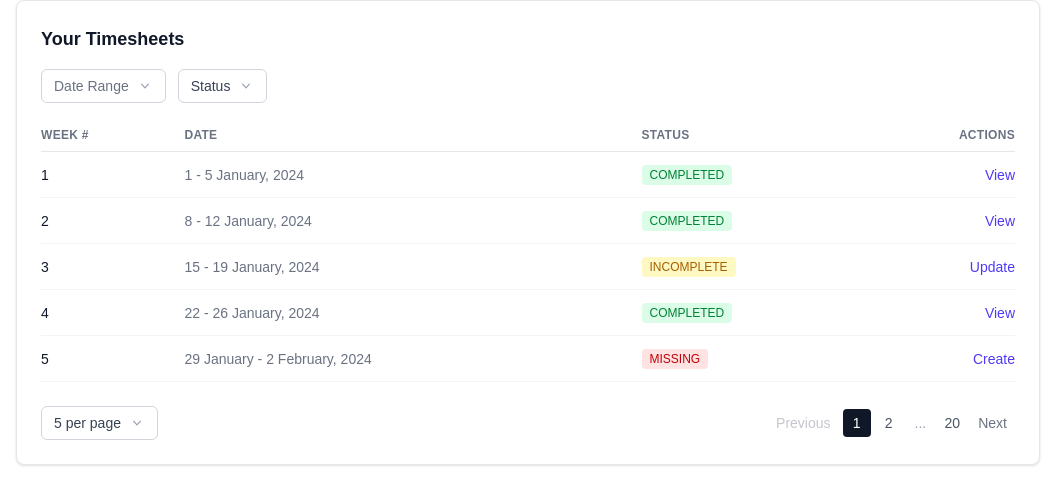
TimesheetTable › filters rows by status
Click the button "Status" at (223, 86), box [178,69,267,103]
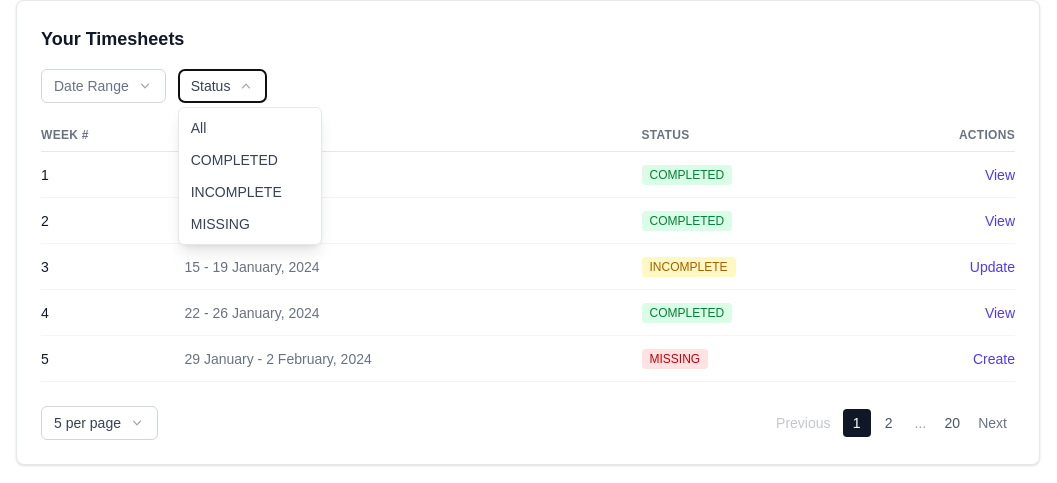
Click the button "MISSING" at (250, 224), box [179,208,321,240]
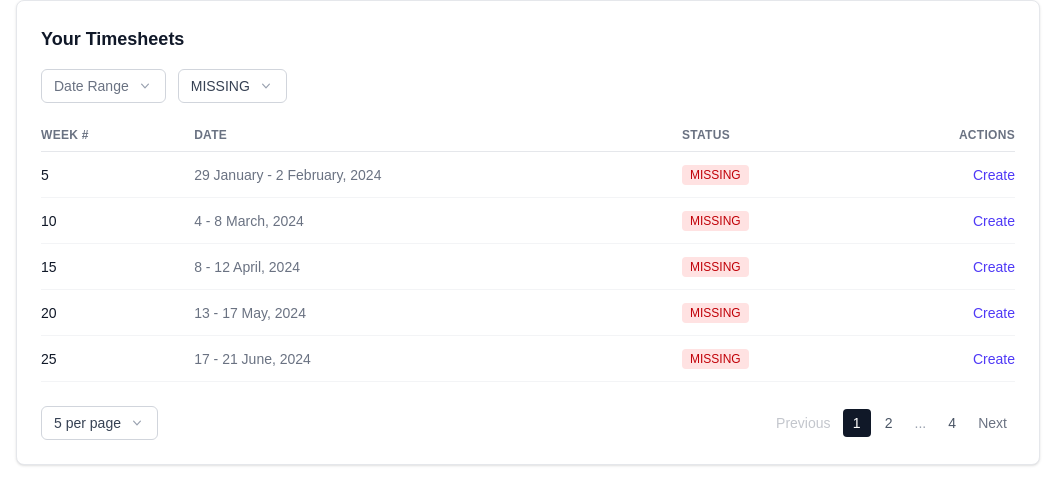
expect the text "MISSING" in the row of "10" is shown: met, box [690,214,741,228]
expect the link "Create" in the row of "10" is shown: met, box [973,212,1015,228]
expect the text "MISSING" in the row of "15" is shown: met, box [690,260,741,274]
